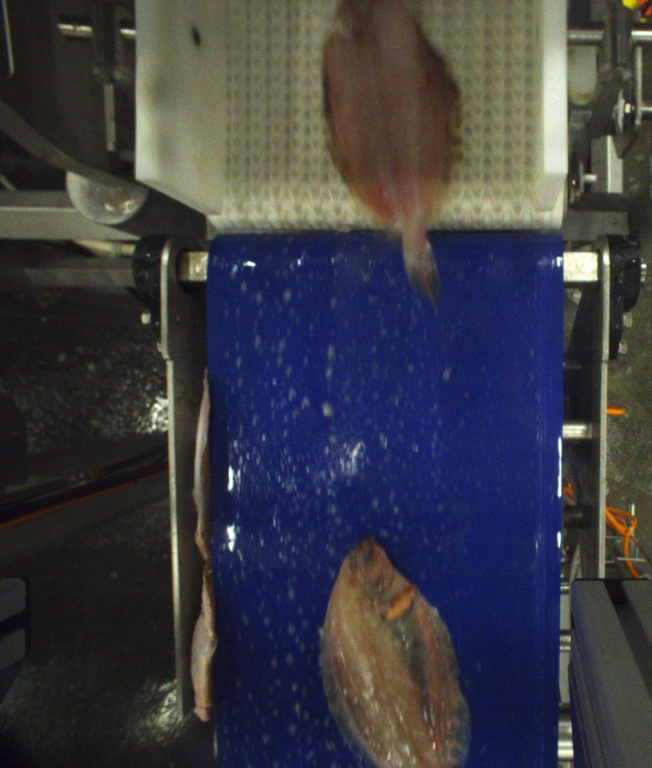WIT: (316, 537, 467, 768)
